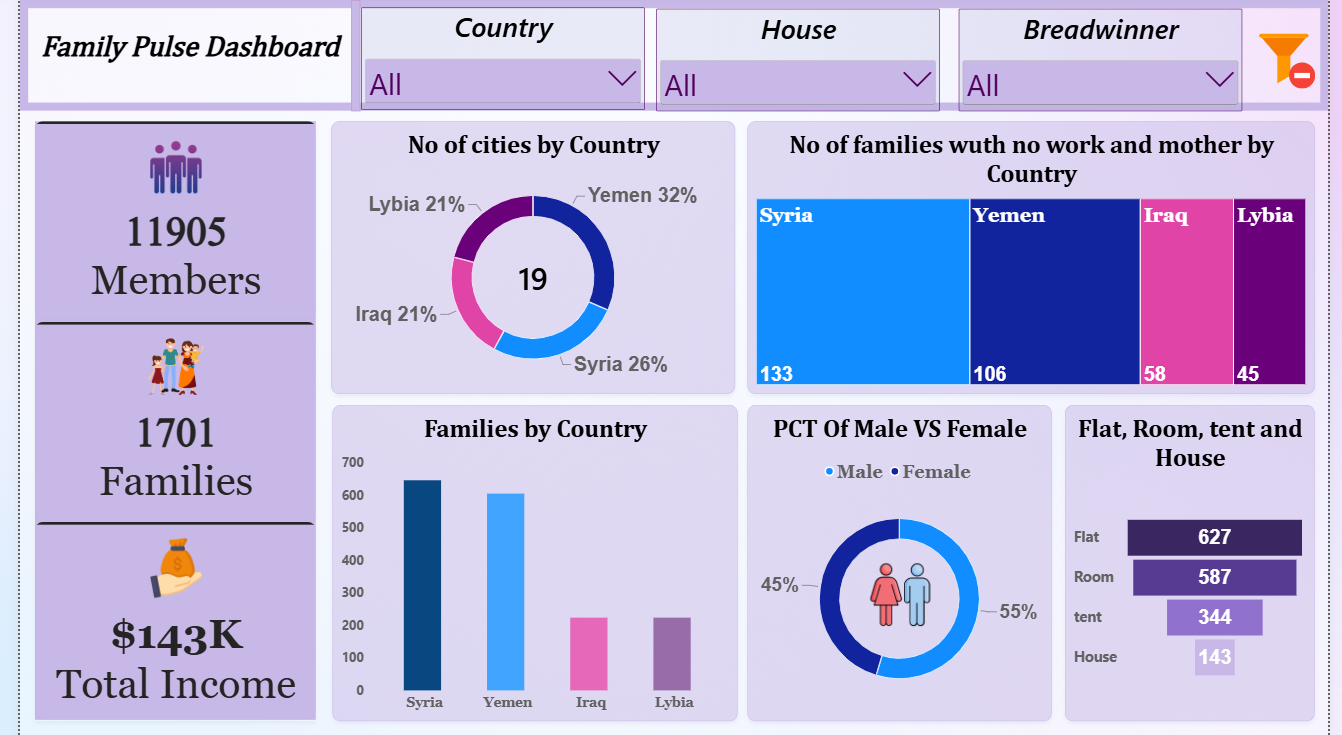

Layout of this report page (visuals, bound fields, positions):
{"tool":"powerbi","page":{"name":"Page 1","canvas":[1920,1080],"ordinal":0},"visuals":[{"type":"shape","box":[0,0,1920,162.5],"z":0},{"type":"textbox","box":[0,45,500,100],"z":1000},{"type":"shape","box":[486.7,0,13.3,163.3],"z":2000},{"type":"slicer","title":"Country","fields":{"Values":["Needs.Country"]},"box":[500,11.9,416,150],"z":3000},{"type":"slicer","title":"Breadwinner","fields":{"Values":["Needs.Breadwinner"]},"box":[1378,12,416,150],"z":4000},{"type":"slicer","title":"House","fields":{"Values":["Needs.House"]},"box":[934,12,416,150],"z":5000},{"type":"image","box":[1808,22,92,124],"z":6000},{"type":"cardVisual","fields":{"Data":["_Measuer.Members","_Measuer.Families","_Measuer.Total Income"]},"box":[22,178,412,880],"z":7000},{"type":"donutChart","fields":{"Category":["Needs.Country"],"Y":["_Measuer.No of cities"]},"box":[457.5,177.5,592.5,400],"z":8000},{"type":"treemap","fields":{"Group":["Needs.Country","Needs.City"],"Values":["_Measuer.No of families wuth no work and mother"]},"box":[1067.5,177.5,832.5,400],"z":8001},{"type":"clusteredColumnChart","fields":{"Category":["Needs.Country"],"Y":["_Measuer.Families"]},"box":[458,594,594,464],"z":8002},{"type":"donutChart","title":" PCT Of Male VS Female","fields":{"Y":["_Measuer.Male","_Measuer.Female"]},"box":[1068,594,446,464],"z":8003},{"type":"image","box":[1246,810,92,124],"z":8004},{"type":"funnel","fields":{"Y":["_Measuer.Flat","_Measuer.Room","_Measuer.tent","_Measuer.House"]},"box":[1534,594,366,464],"z":8005}]}

Visuals, with their boxes in screenshot pixels (x1, y1, x2, y2), scaled from the page's 1920x1080 canvas onto the 1342x735 screenshot:
shape: 0:0:1341:111
textbox: 0:31:349:99
shape: 340:0:349:111
"Country" slicer: 349:8:640:110
"Breadwinner" slicer: 963:8:1254:110
"House" slicer: 653:8:944:110
image: 1264:15:1328:99
cardVisual - _Measuer.Members x _Measuer.Families: 15:121:303:720
donutChart - Needs.Country x _Measuer.No of cities: 320:121:734:393
treemap - Needs.Country x Needs.City: 746:121:1328:393
clusteredColumnChart - Needs.Country x _Measuer.Families: 320:404:735:720
" PCT Of Male VS Female" donutChart: 746:404:1058:720
image: 871:551:935:636
funnel - _Measuer.Flat x _Measuer.Room: 1072:404:1328:720
